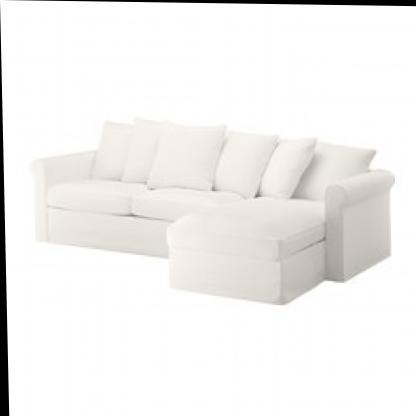Sofa: (22, 94, 396, 314)
